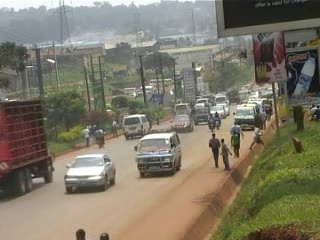Car: (61, 151, 118, 197), (167, 112, 194, 136), (211, 104, 225, 119), (190, 103, 212, 111), (217, 102, 231, 113)
Motorcycle: (92, 124, 108, 151), (205, 111, 214, 132), (213, 111, 223, 129)
